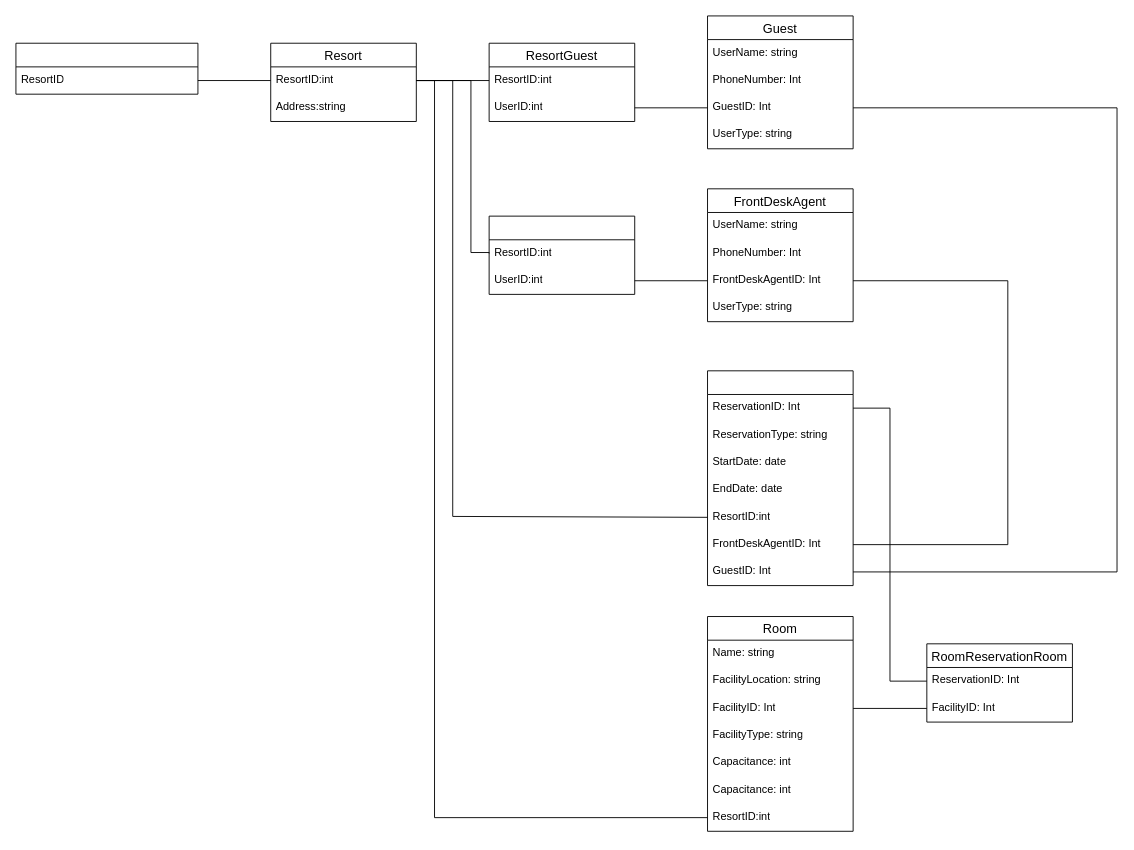
The diagram is 1134 pixels wide and 850 high, and some of its shapes have lost their labels. The shapes that lost their labels are listed below. From the top down, each one's box as (x1, y1, x2, y2) in pixels, then its label:
(15, 42, 198, 94): ResortManagementSystem
(488, 215, 635, 294): ResortManager
(707, 370, 853, 586): RoomReservation
